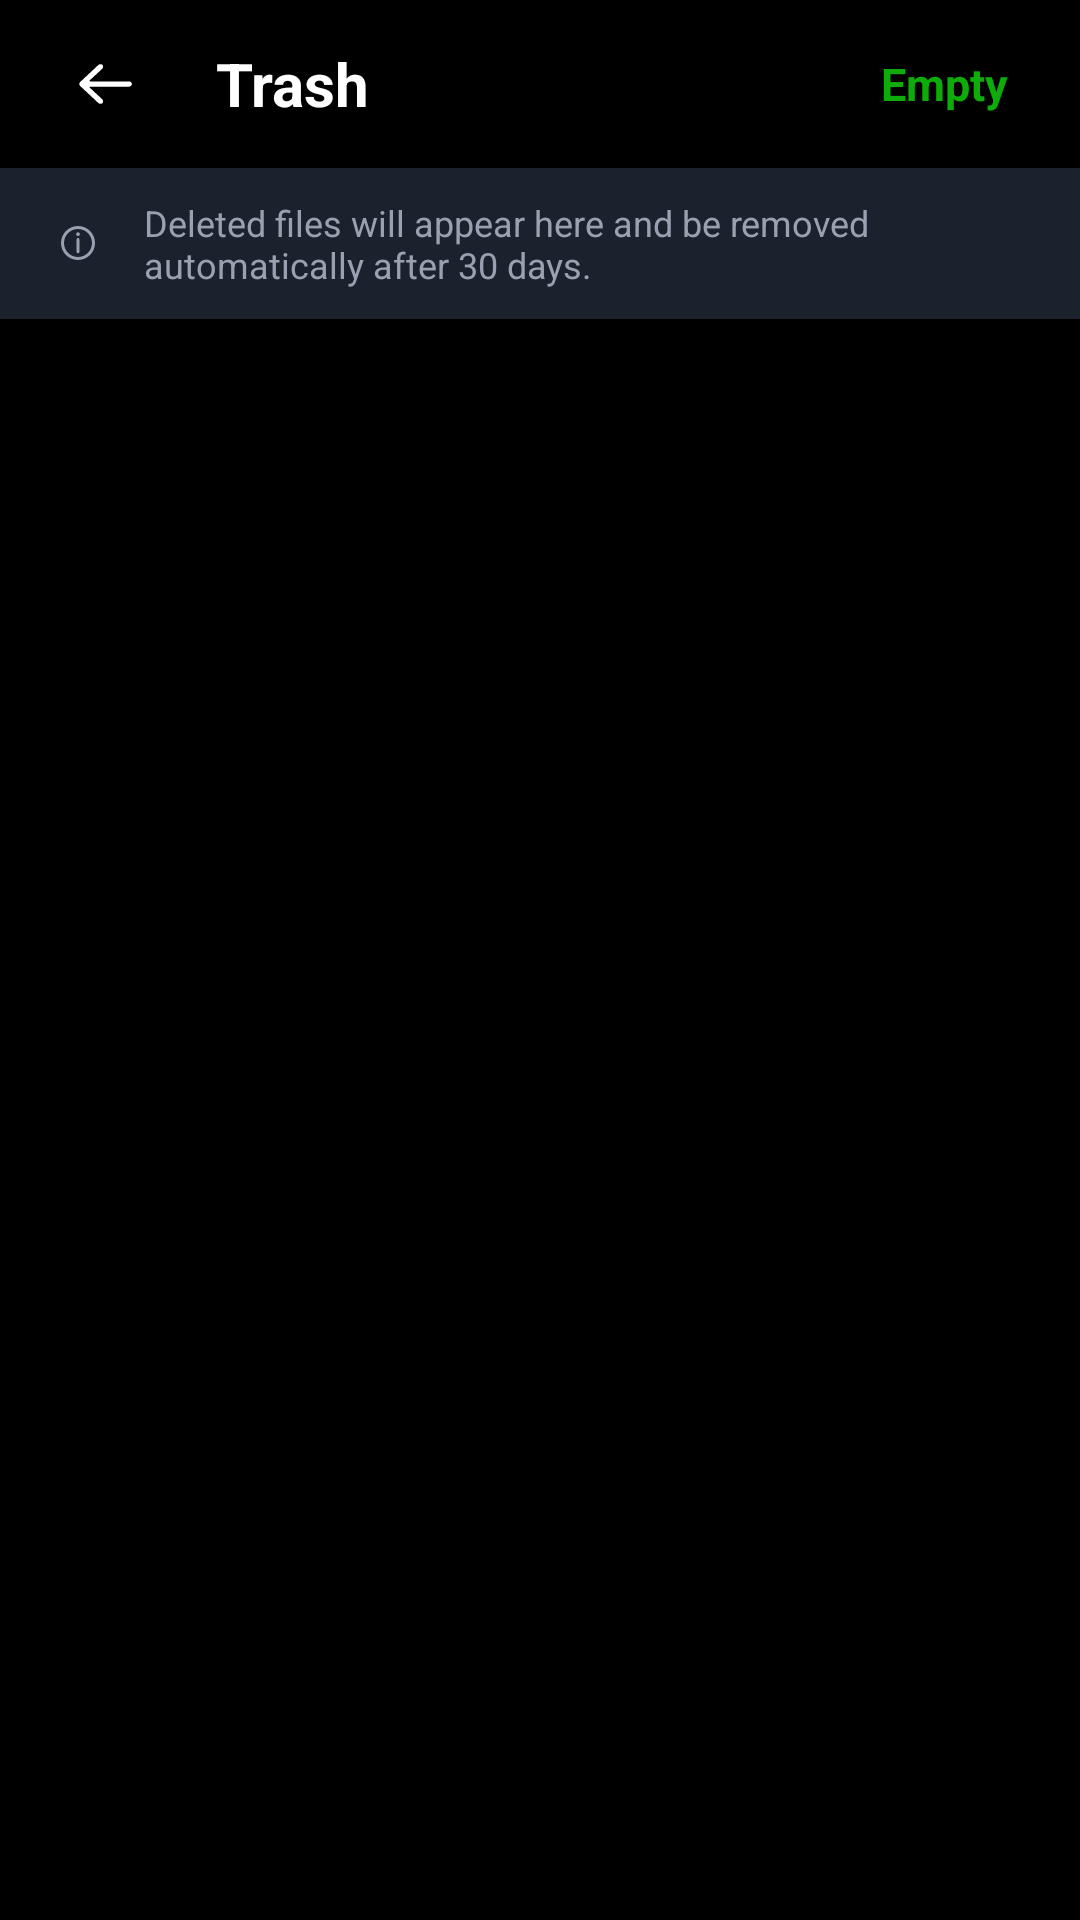

Screen size 1080×1920. Icon name, then its box in pixels as {"left": x1, "top": y1, "right": x2, "bottom": y2}:
back: {"left": 79, "top": 64, "right": 132, "bottom": 104}
tip info: {"left": 61, "top": 226, "right": 95, "bottom": 260}
